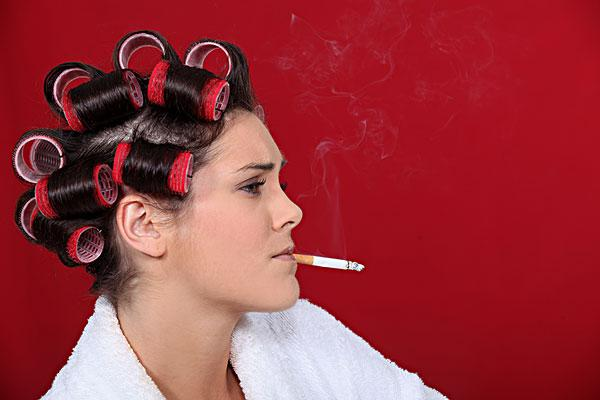smoke: (287, 251, 365, 273)
